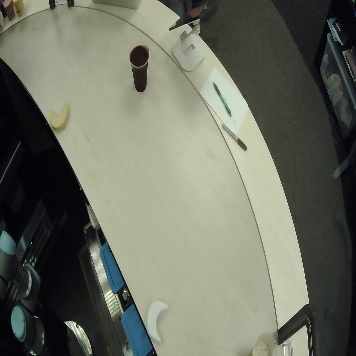full_cup: (129, 43, 148, 93), (249, 331, 277, 356), (2, 1, 16, 22), (13, 1, 26, 16)
puck: (146, 298, 170, 344), (49, 104, 71, 131)
